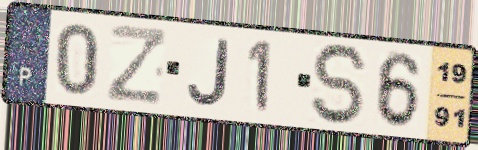0: (53, 21, 104, 98)
1: (244, 38, 271, 117)
6: (375, 50, 426, 132)
J: (185, 36, 232, 108)
S: (310, 41, 372, 128)
Z: (104, 21, 169, 107)
